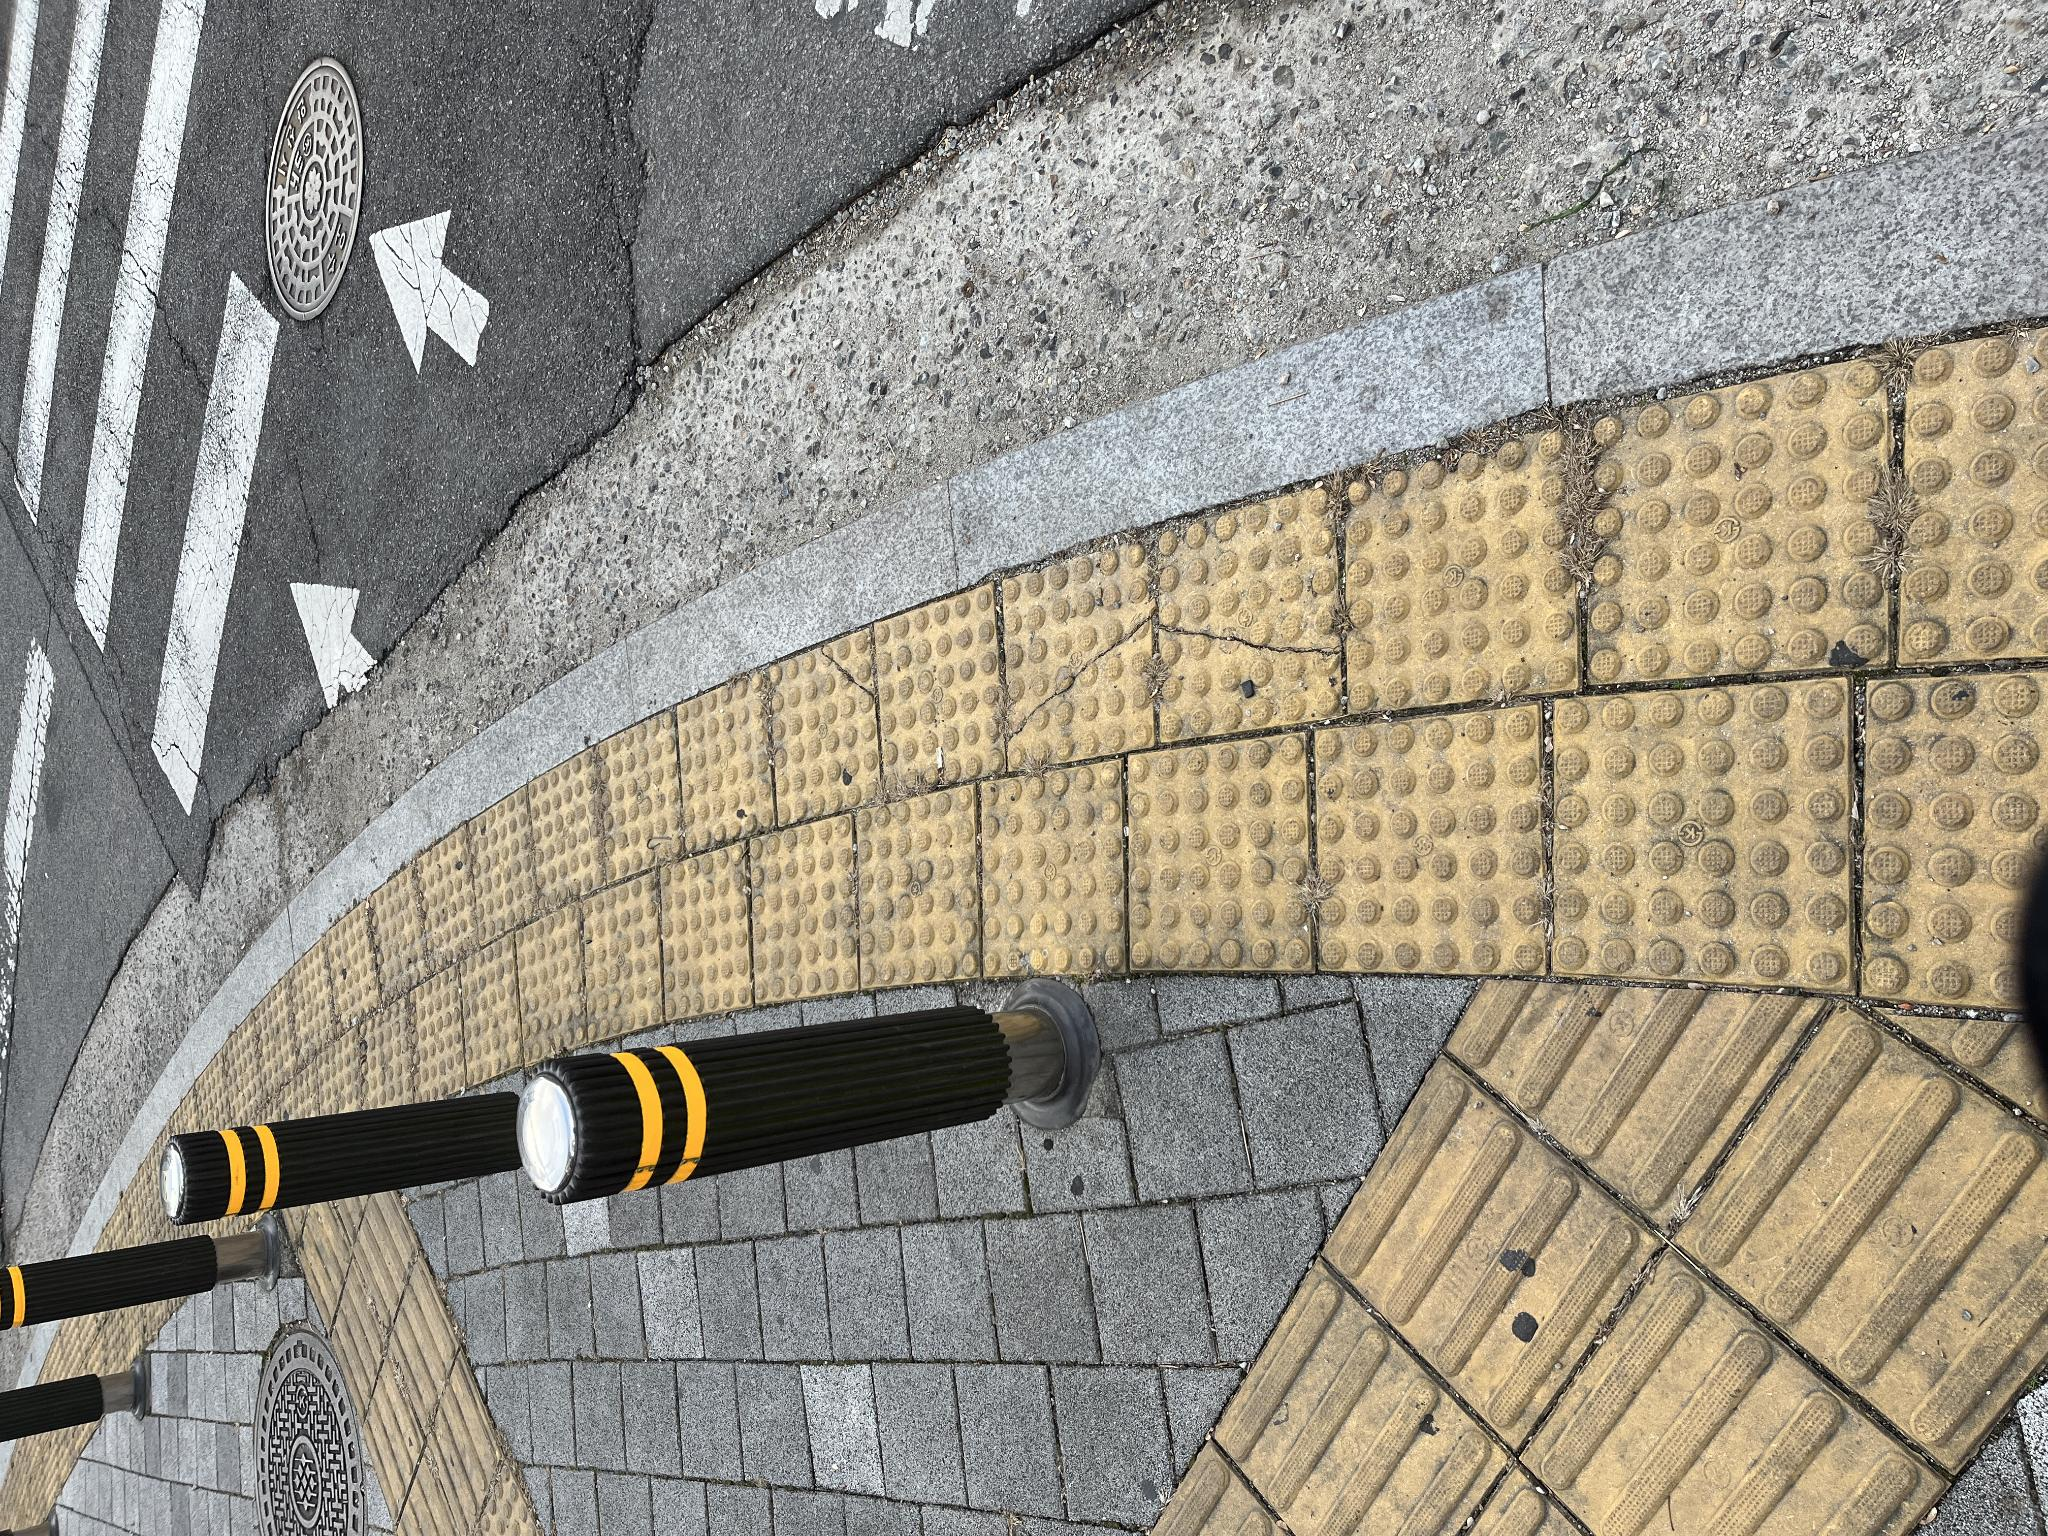Stop block broken: (795, 1155, 1055, 1341), (764, 1000, 1000, 1152)
Stop block normal: (563, 1318, 829, 1536), (548, 858, 751, 979)
